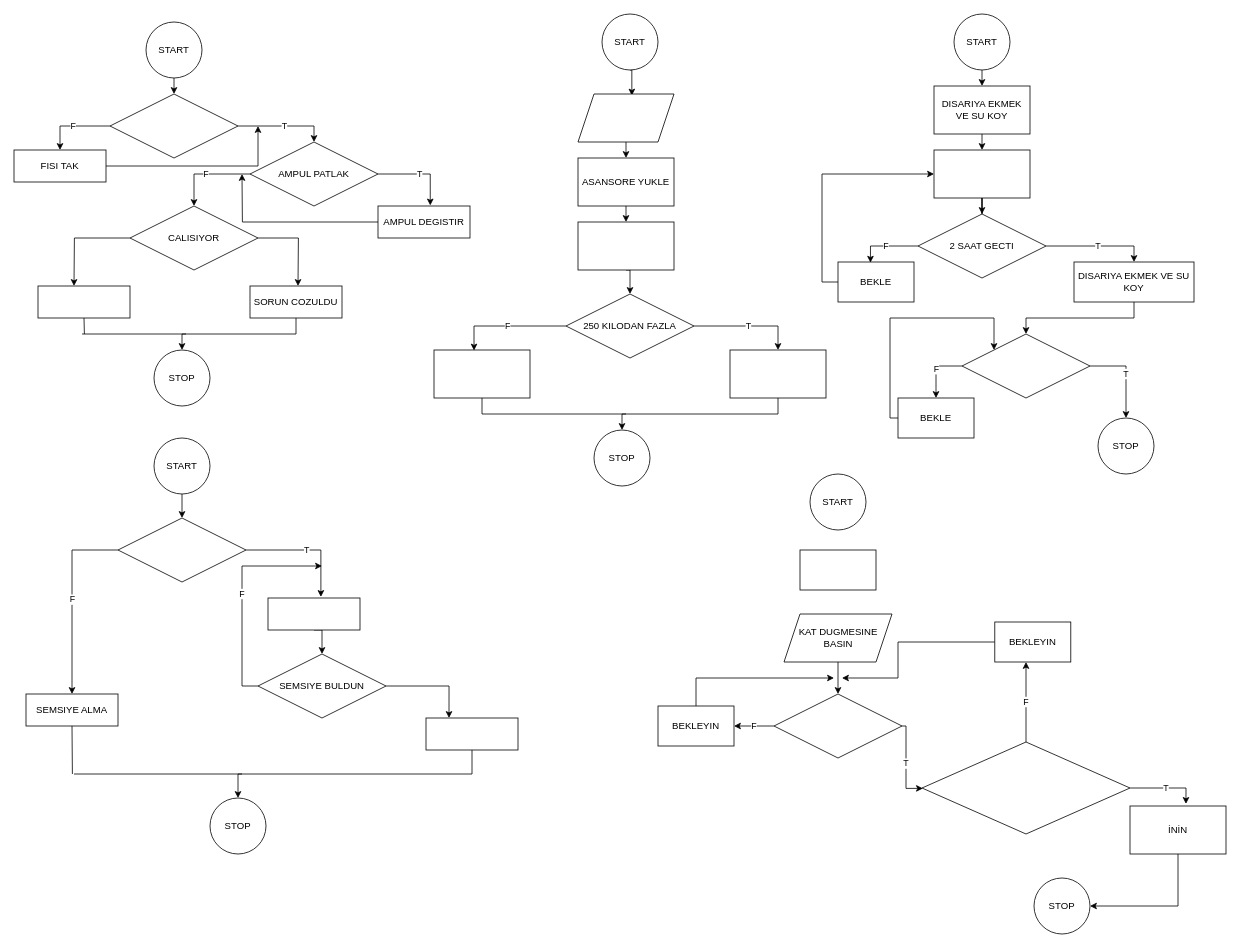
Some shapes in this 1240 by 948 pixel diagram are drawn without their labels. Here are the shapes that lost their labels. From the top down, the centre of each, then its label:
At pixel 173 125: "LAMBANIN FISI TAKILI".
At pixel 625 117: "YÜK".
At pixel 981 173: "SAATE BAK".
At pixel 625 245: "TART".
At pixel 83 301: "YENI MASA LAMBASI AL".
At pixel 481 373: "HAREKET ET".
At pixel 777 373: "DUR".
At pixel 1025 365: "SAAT 20.00".
At pixel 181 549: "YAGMUR YAGIYOR".
At pixel 837 569: "ASANSORE BININ".
At pixel 313 613: "SEMSIYE ARA".
At pixel 471 733: "SEMSIYEYI YANINA AL".
At pixel 837 725: "ASANSOR DURDU".
At pixel 1025 787: "BASTIGINIZ KATLA DURDUGU KAT AYNI".
